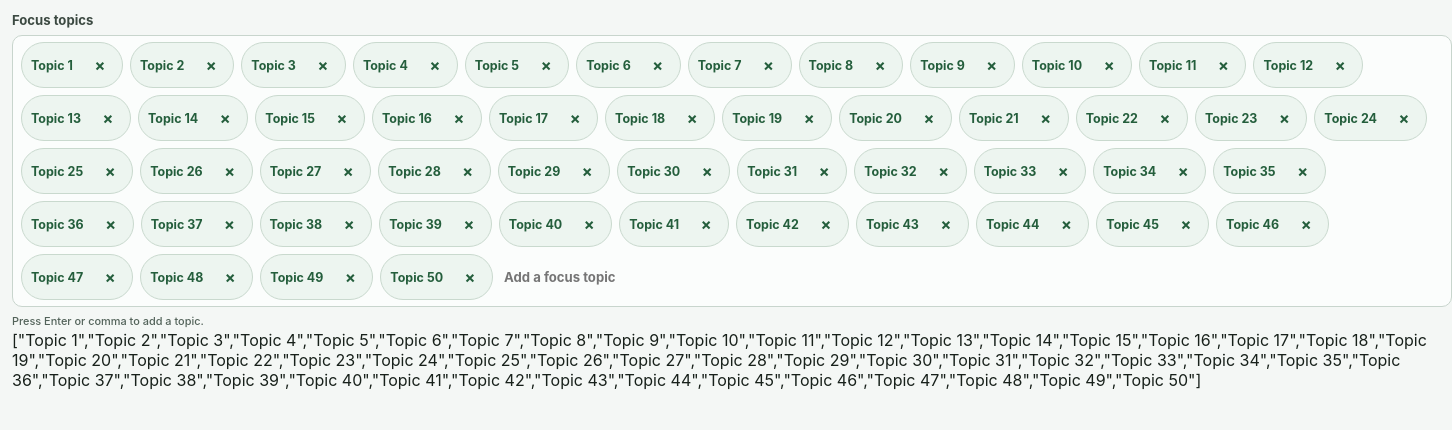
Test: InterviewTagInput › shows an explicit error and preserves all 50 values when another unique chip would exceed the item limit
Type "One more topic" into the field labelled "Focus topics" at (972,277), box [500, 263, 1443, 291]
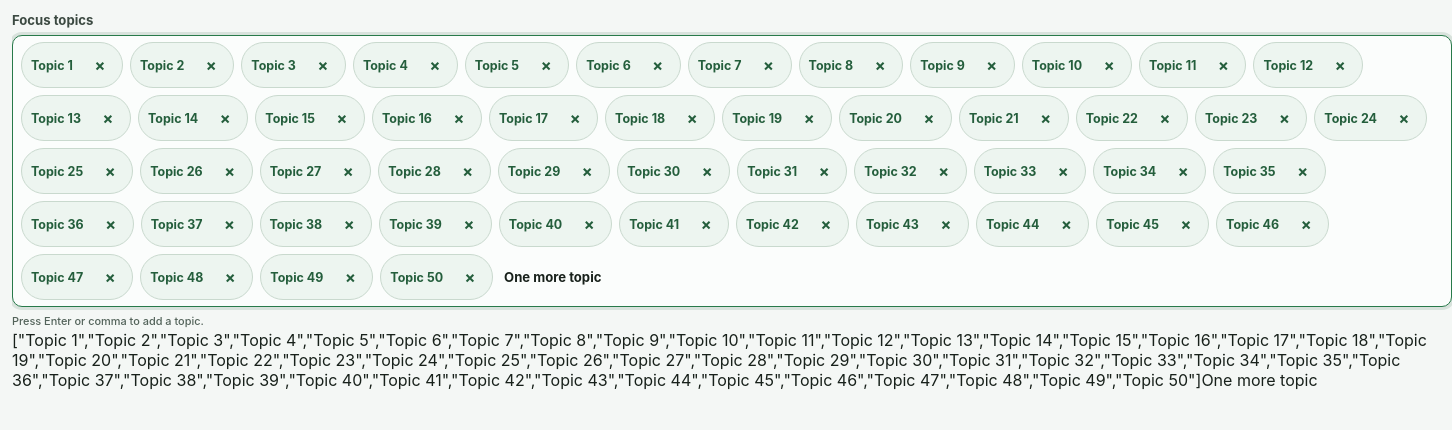
Press Enter
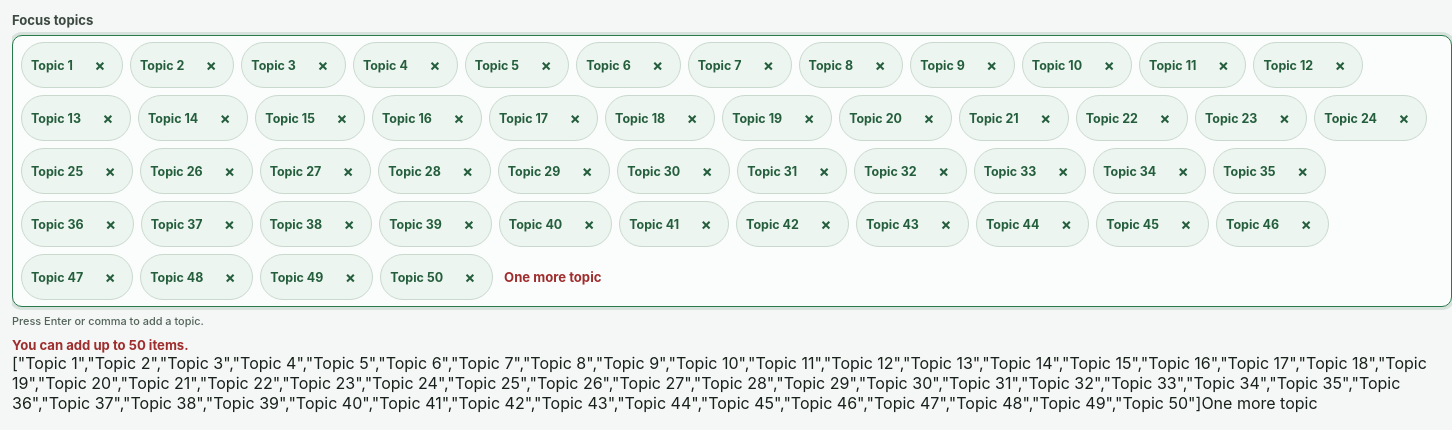
Expected: the message shows "50", [12, 337, 189, 353]
